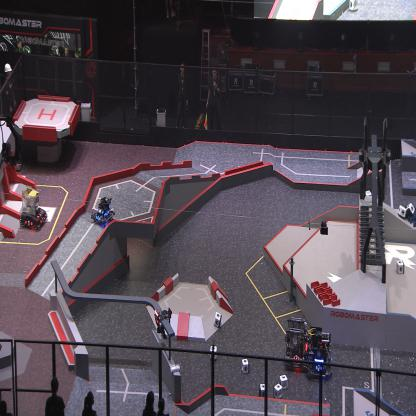car: (305, 325, 334, 381), (19, 185, 48, 231), (284, 317, 308, 370), (90, 196, 115, 228)
